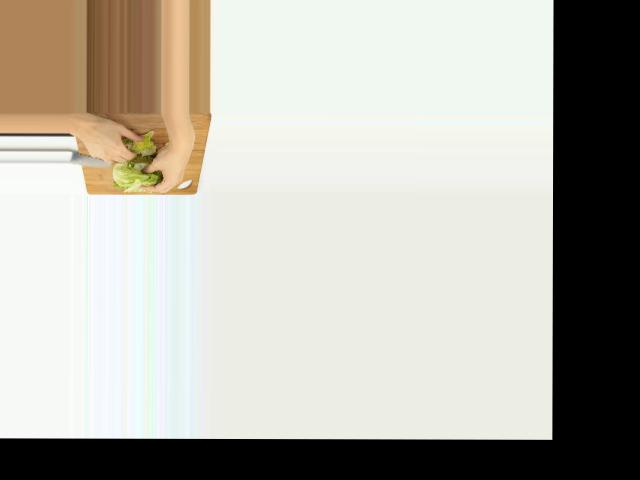lettuce: (111, 158, 159, 190)
